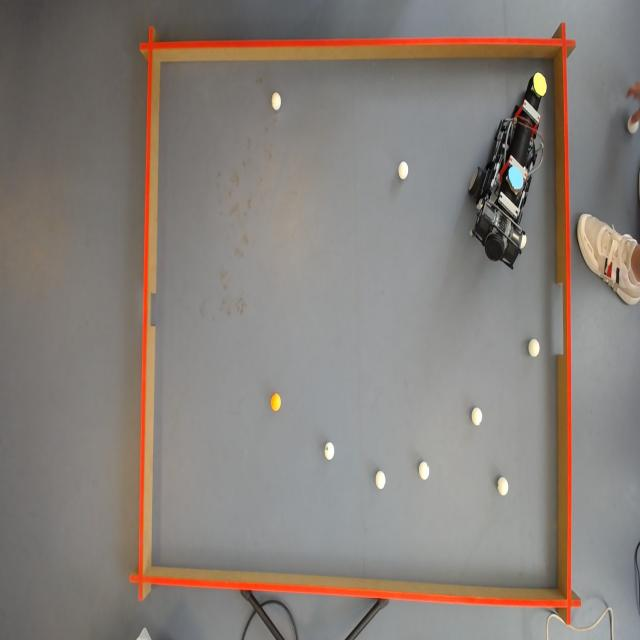orange: (270, 393, 282, 412)
robot: (474, 57, 552, 276)
robot-front: (534, 75, 547, 96)
robot-rear: (508, 162, 527, 190)
white: (398, 160, 411, 180), (530, 337, 542, 357), (375, 471, 388, 489), (418, 462, 430, 481), (499, 478, 511, 497), (271, 91, 282, 111), (472, 407, 484, 425), (323, 442, 334, 458)
